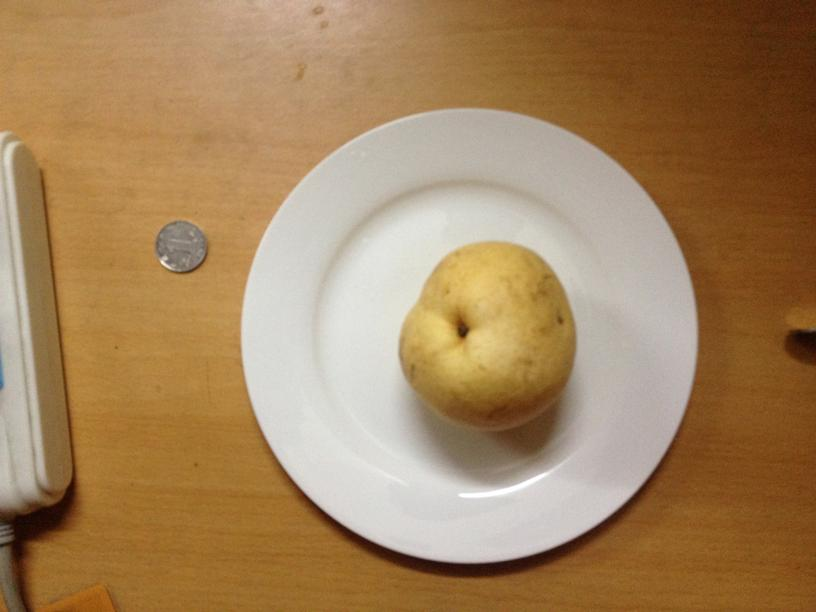coin: (154, 218, 208, 273)
pear: (396, 240, 573, 425)
